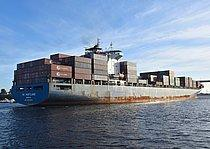Ship: (9, 35, 207, 110)
